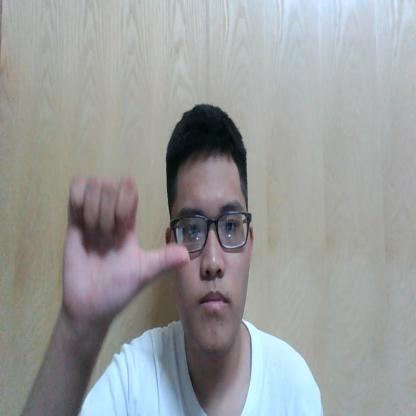left: (62, 168, 192, 327)
